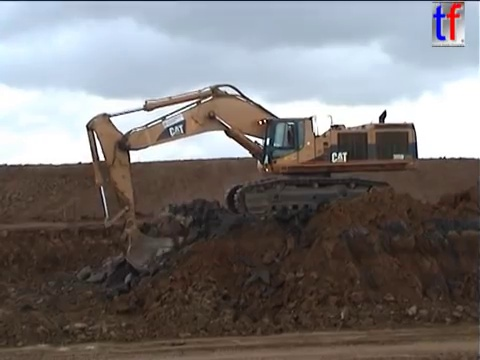excavator: (82, 81, 422, 275)
